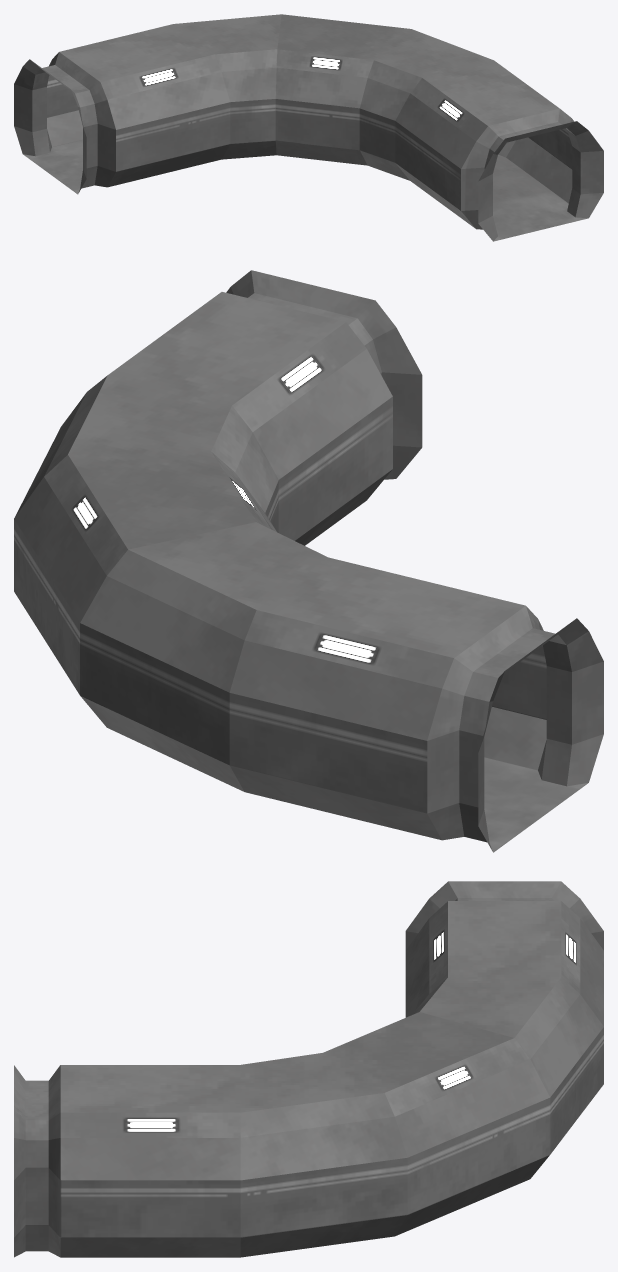
File: hallway_oct_corner_tex.fbx
3 views of the same model, one above another, from view 1: azimuth 30°, elevation 25°; view 2: azimuth 150°, elevation 25°; view 3: azimuth 270°, elevation 25° (orthographic). The views are drawn at different scales.
Parts seen in each view (by area): view 1: hallway_oct_corner; view 2: hallway_oct_corner; view 3: hallway_oct_corner.
Boxes of the visible parts, x1,y1,x2,y2 form: hallway_oct_corner: [14, 14, 603, 241]; hallway_oct_corner: [14, 270, 603, 852]; hallway_oct_corner: [14, 881, 603, 1257].
Bounding box in the file's own units: 1563 × 400 × 1563.
1 material, 1 textured.
